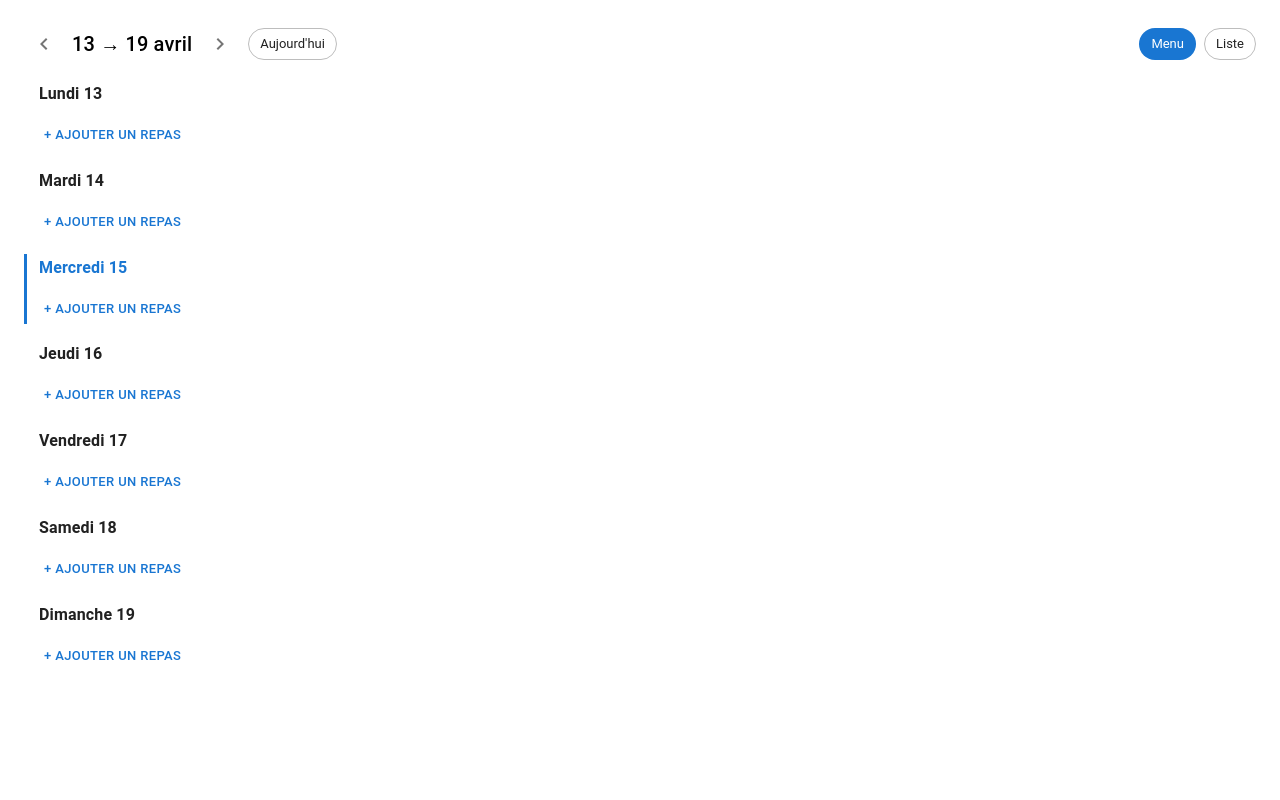
Scenario: MealsPage — one page, two views of the same week › says so when the week has no meal, in the Liste view
This screenshot has width=1280, height=800.
Click the button "Liste" at (1230, 44), box [1204, 28, 1256, 60]
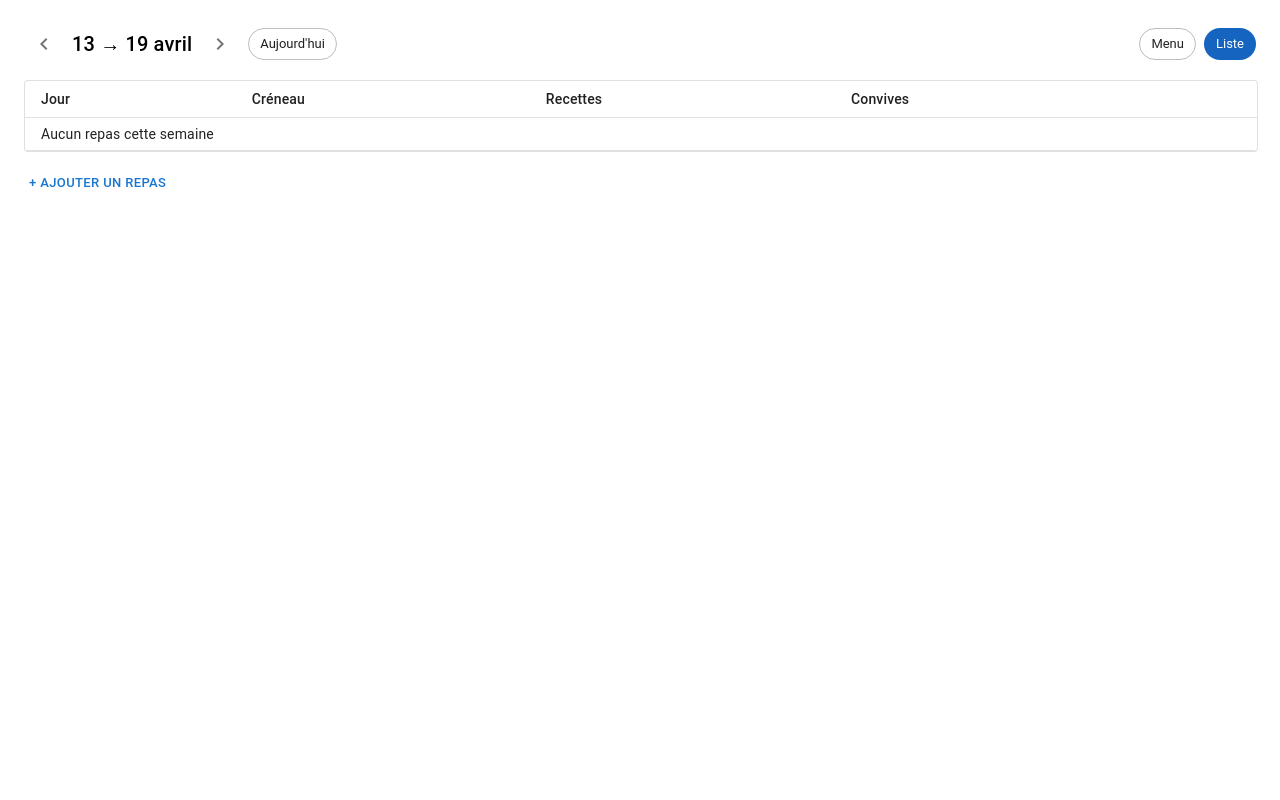
expect the text "Aucun repas cette semaine" is shown: met, box [25, 118, 1257, 150]
